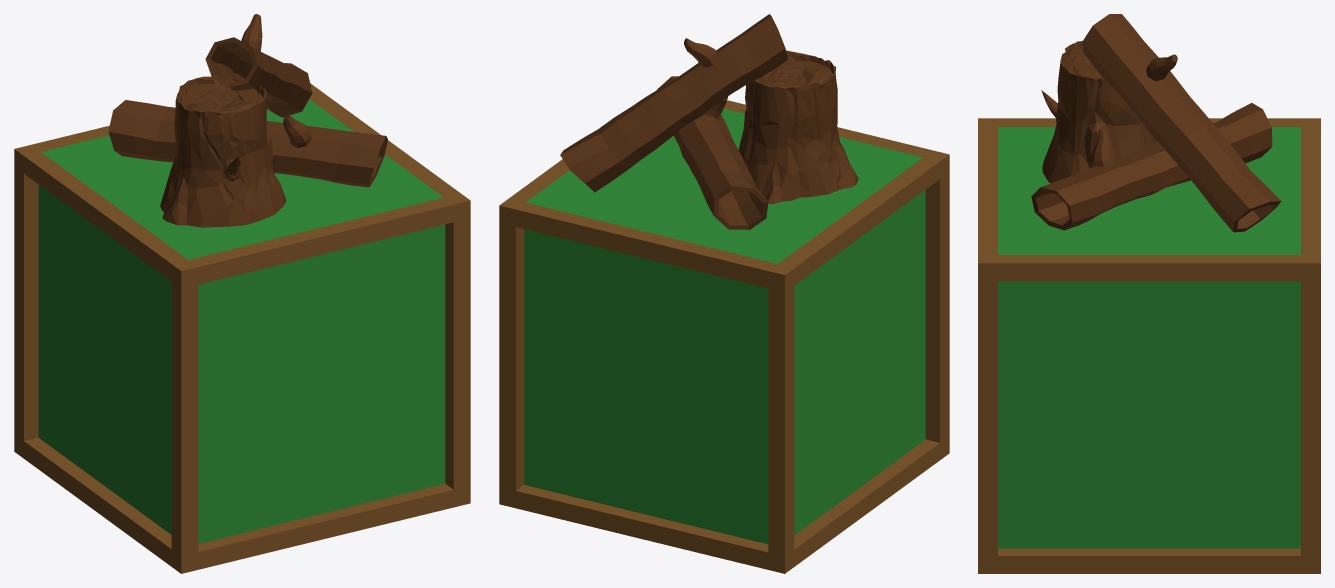
The model's file is Stump_Tile_2.fbx.
The picture shows the model from 3 angles, left to right: view 1: azimuth 30°, elevation 25°; view 2: azimuth 150°, elevation 25°; view 3: azimuth 270°, elevation 25°; orthographic projection. The views are drawn at different scales.
Visible parts, largest first — view 1: platform.006; view 2: platform.006; view 3: platform.006.
Boxes of the visible parts, x1,y1,x2,y2 form: platform.006: (14,14,470,573); platform.006: (499,14,949,573); platform.006: (978,14,1320,573).
Bounding box in the file's own units: 200 × 305 × 200.
